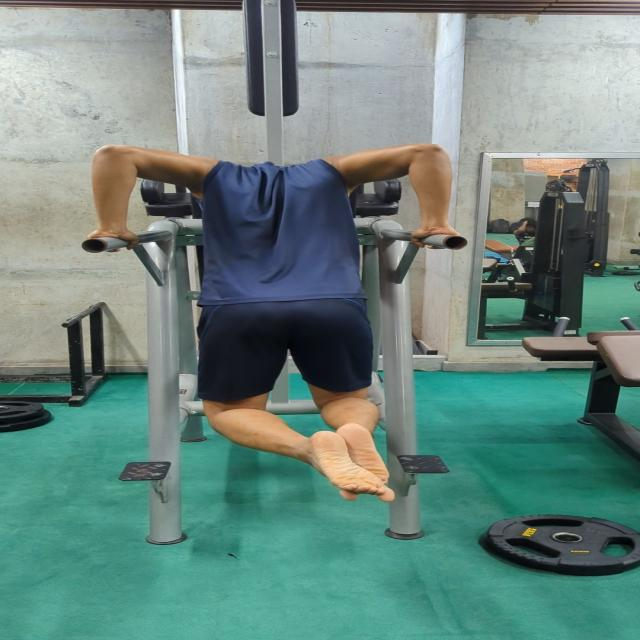Normal_Dips: (83, 133, 471, 500)
